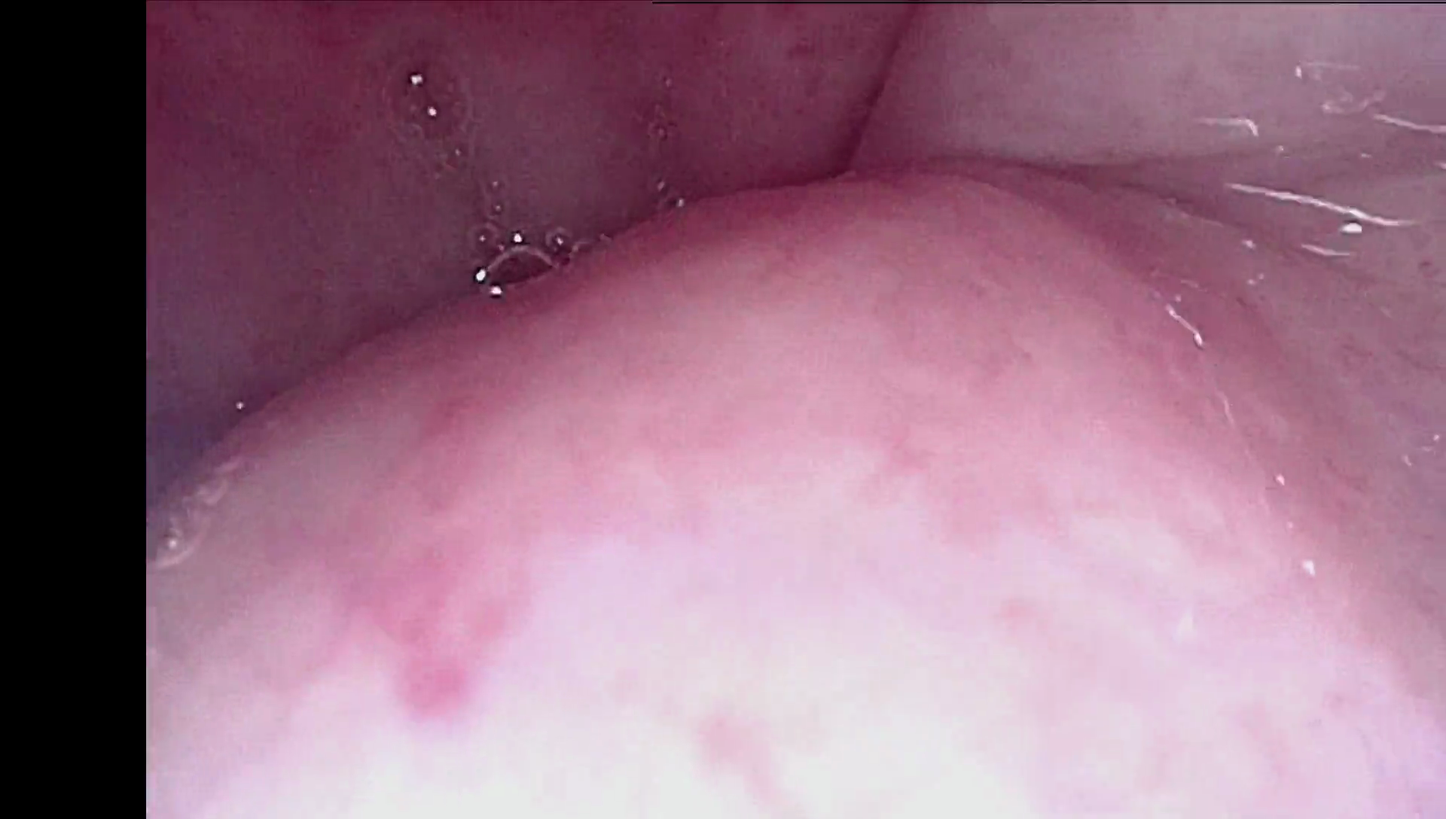close_wall: (161, 263, 1446, 819)
